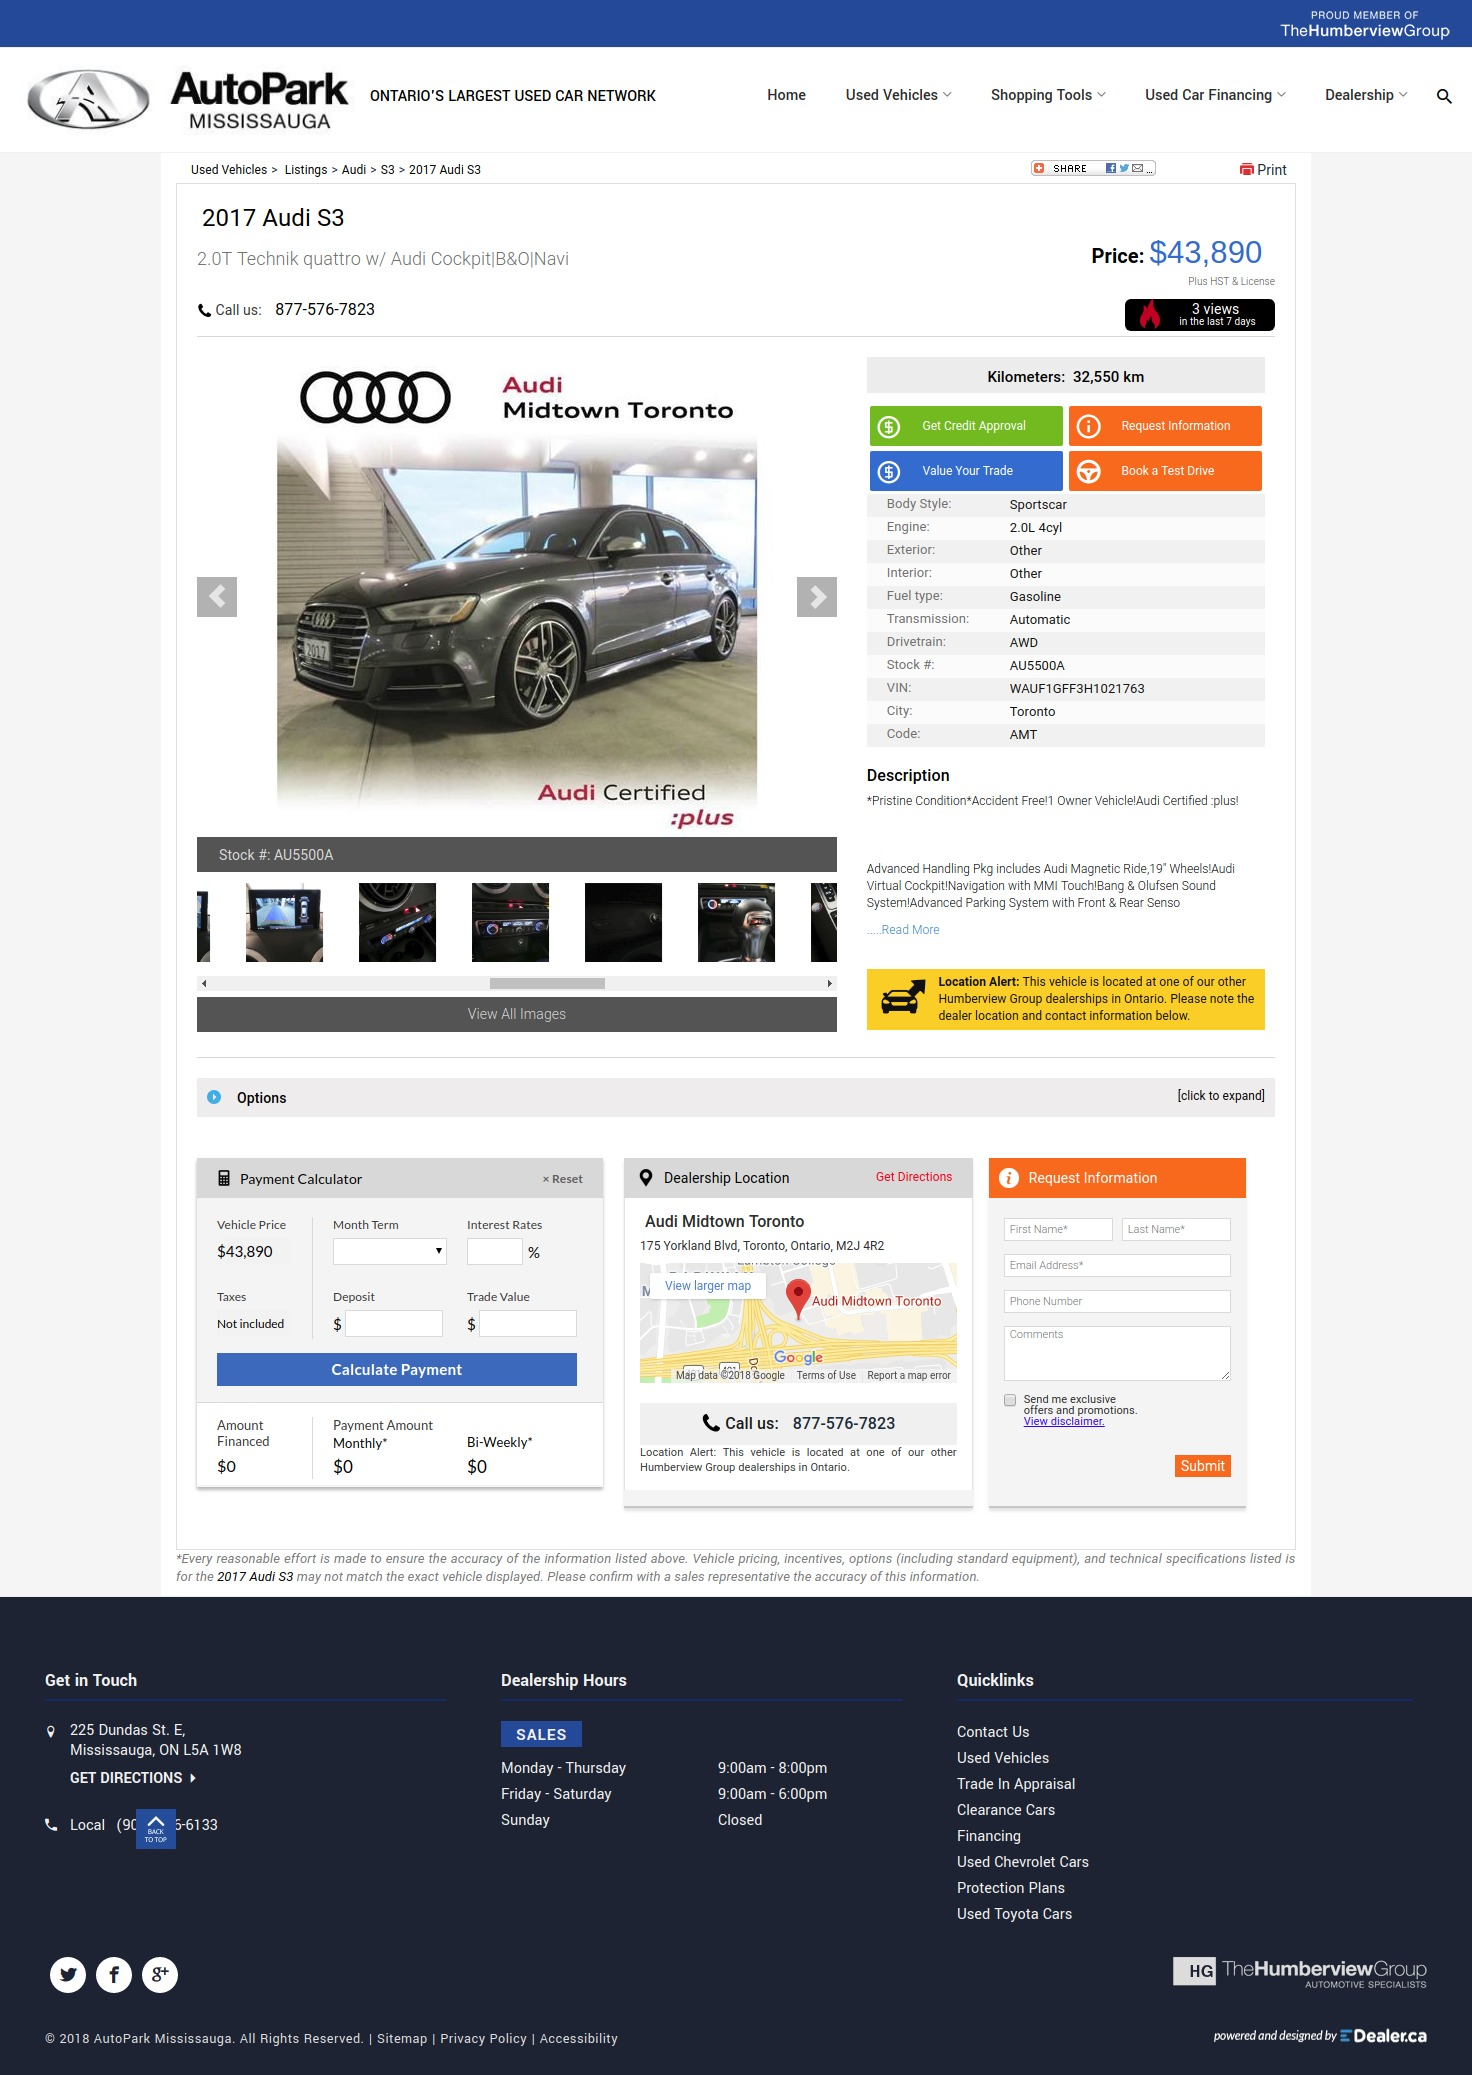car: (828, 979, 833, 987)
